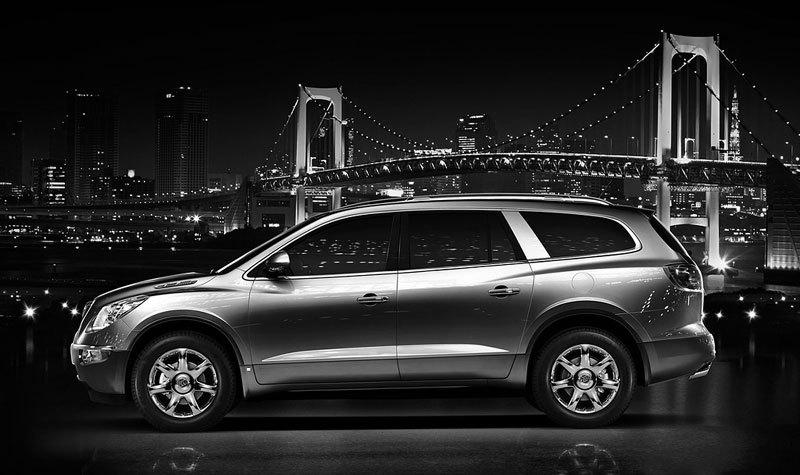car: (69, 191, 722, 430)
